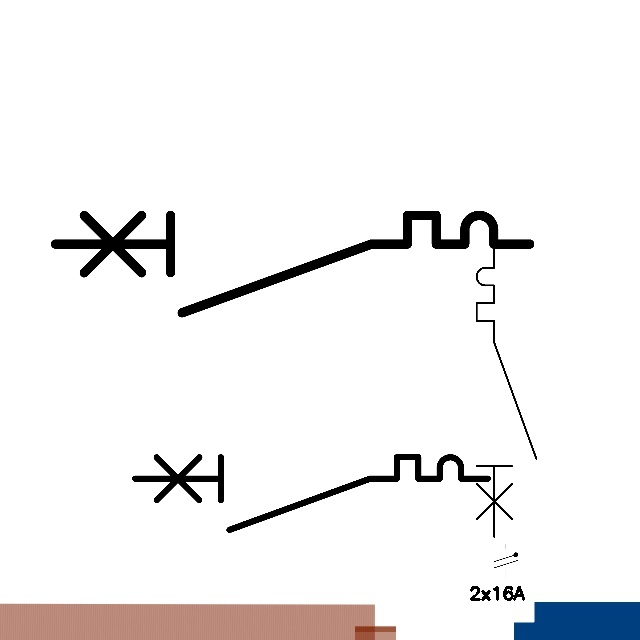interruptor_termomagnetico: (43, 203, 542, 325), (126, 448, 497, 539), (469, 238, 544, 544)
